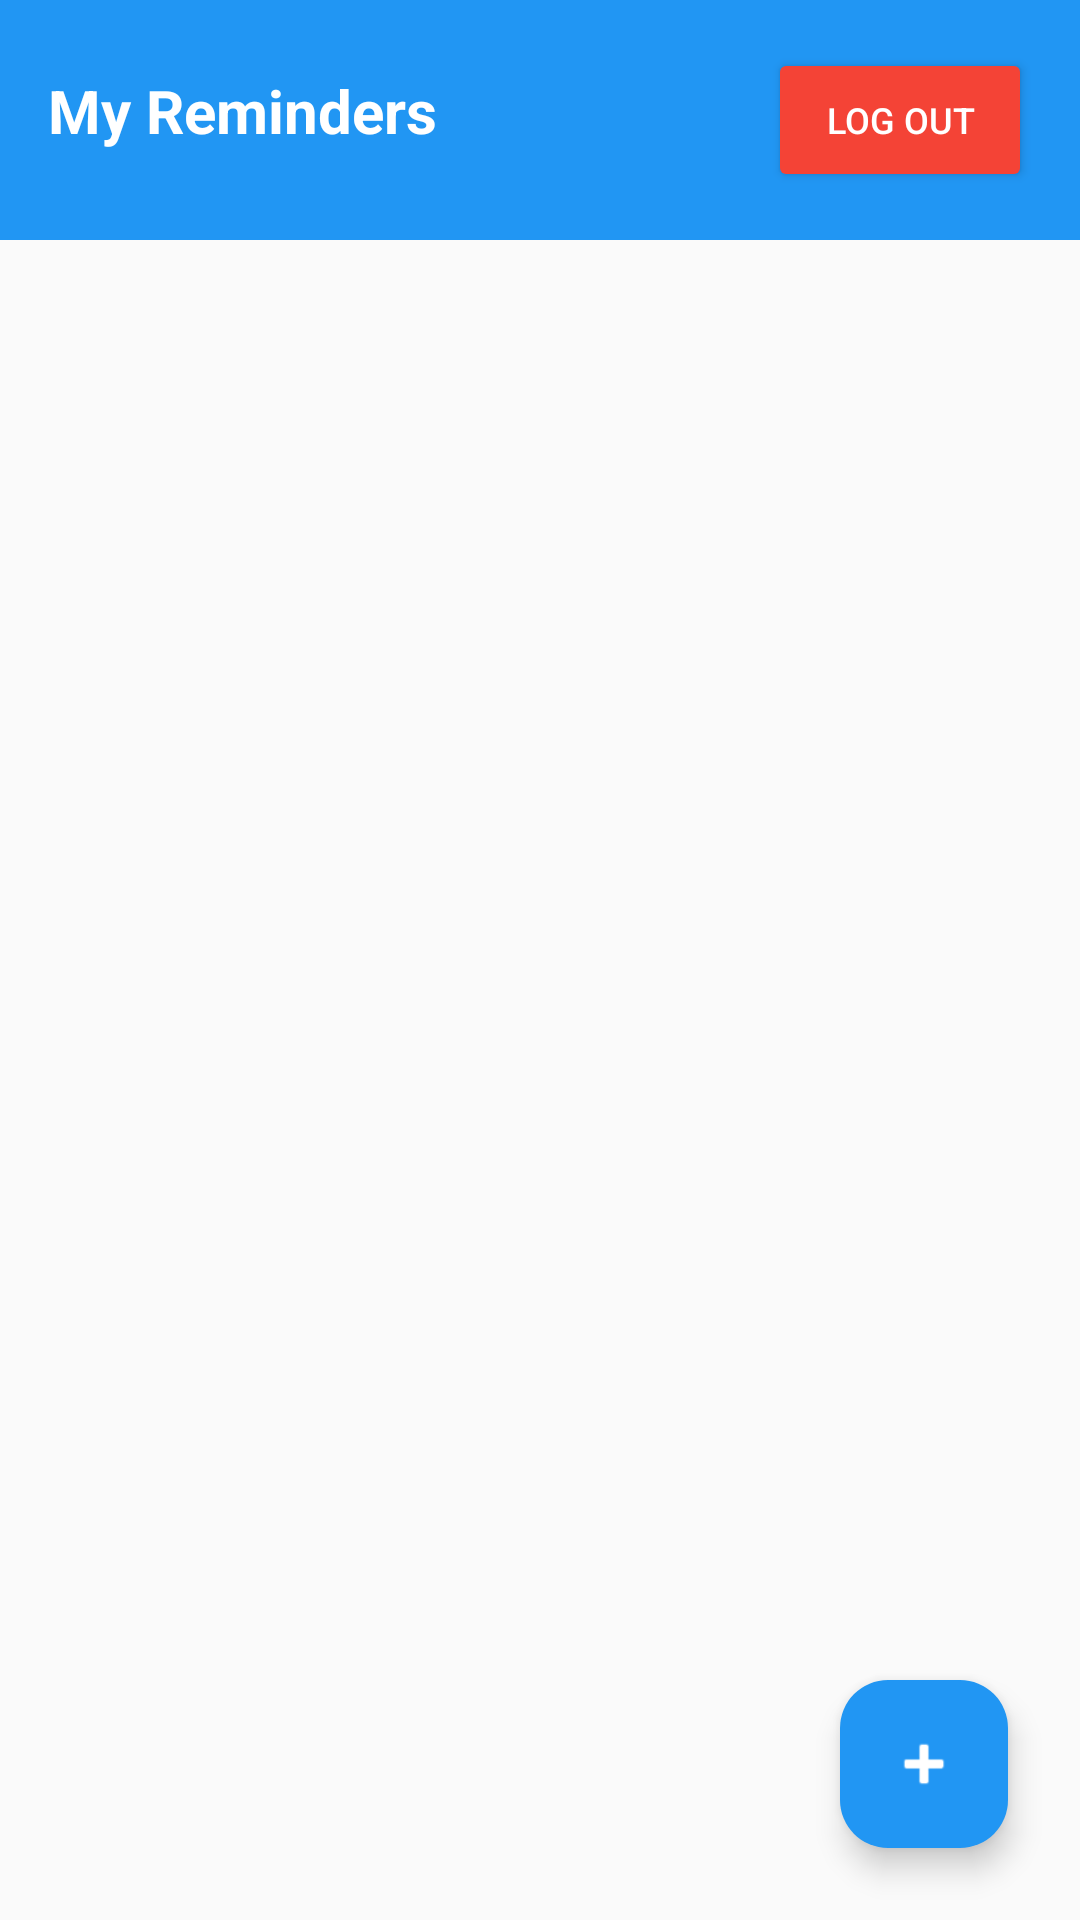

Point at icon controls on the screen. Image size 1080px x 1920px, points as (x,y).
New Reminder: (924,1764)
